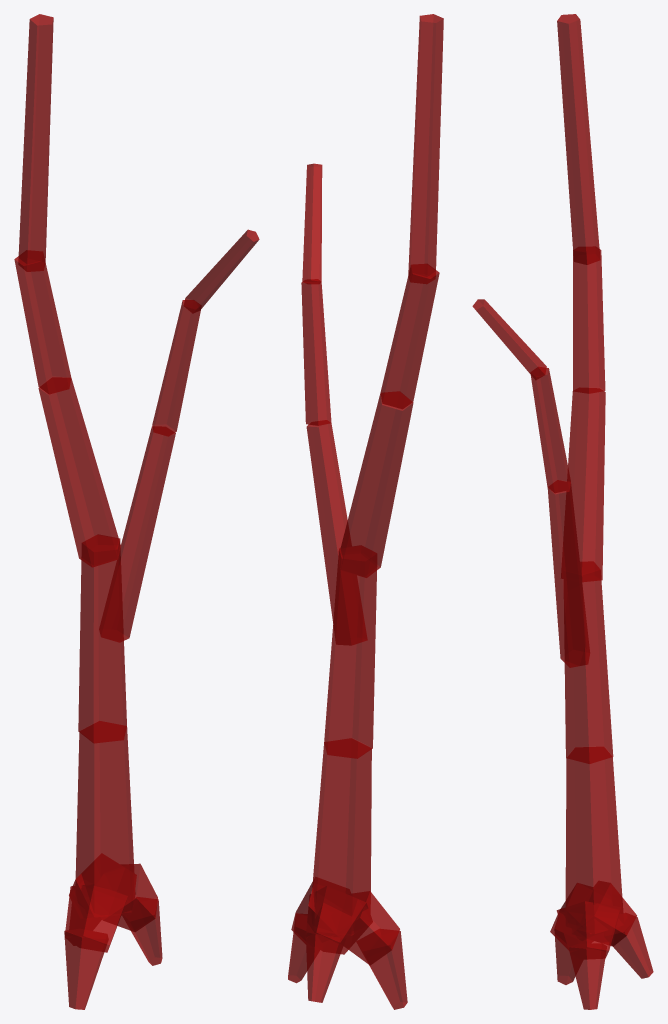
Rendered from SM_Env_Tree_Birch_03_Collision.fbx.
3 renders of one model, left to right at view 1: azimuth 30°, elevation 25°; view 2: azimuth 150°, elevation 25°; view 3: azimuth 270°, elevation 25°, orthographic. The views are drawn at different scales.
Parts seen in each view (by area): view 1: SM_Env_Tree_Birch_03_Collision; view 2: SM_Env_Tree_Birch_03_Collision; view 3: SM_Env_Tree_Birch_03_Collision.
Boxes of the visible parts, x1,y1,x2,y2 form: SM_Env_Tree_Birch_03_Collision: (14, 14, 259, 1009); SM_Env_Tree_Birch_03_Collision: (288, 14, 443, 1009); SM_Env_Tree_Birch_03_Collision: (472, 14, 653, 1009).
Bounding box in the file's own units: 64.46 × 337 × 58.34.
